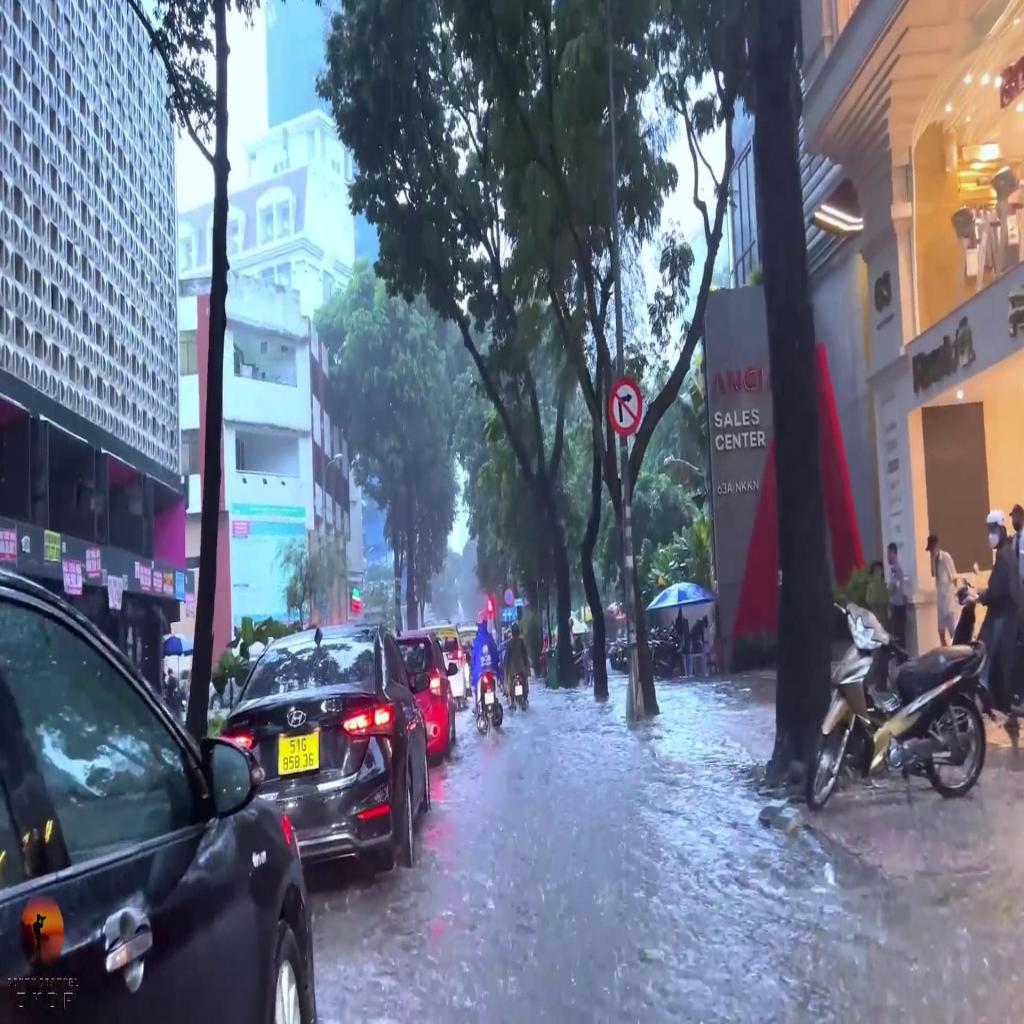cam_dung_xe_va_do_xe: (504, 586, 515, 605)
cam_re_phai: (606, 375, 644, 438)
huong_di_tren_moi_lan_duong_theo_vach_ke_duong: (502, 606, 518, 623)
